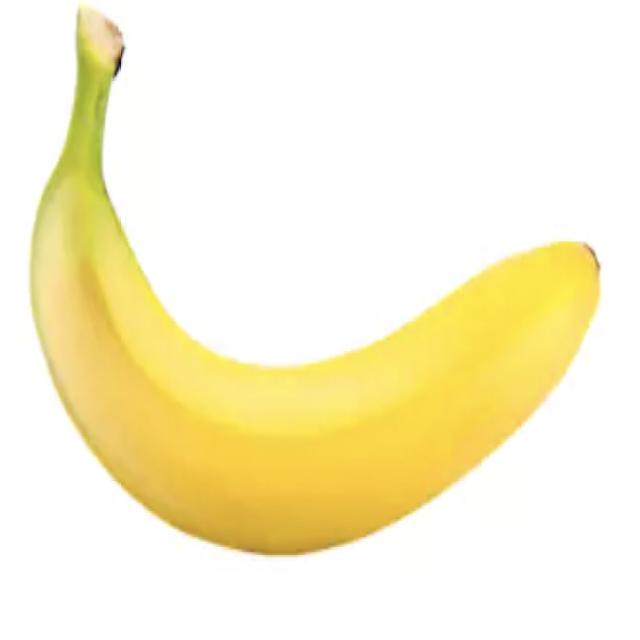fresh-banana: (28, 0, 601, 557)
